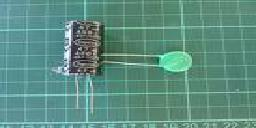Electrolytic Capacitor: (61, 9, 109, 128)
